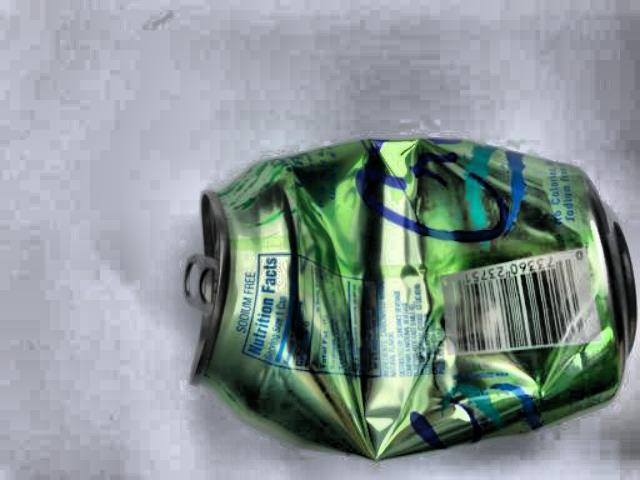Bottles: (171, 119, 640, 480)
